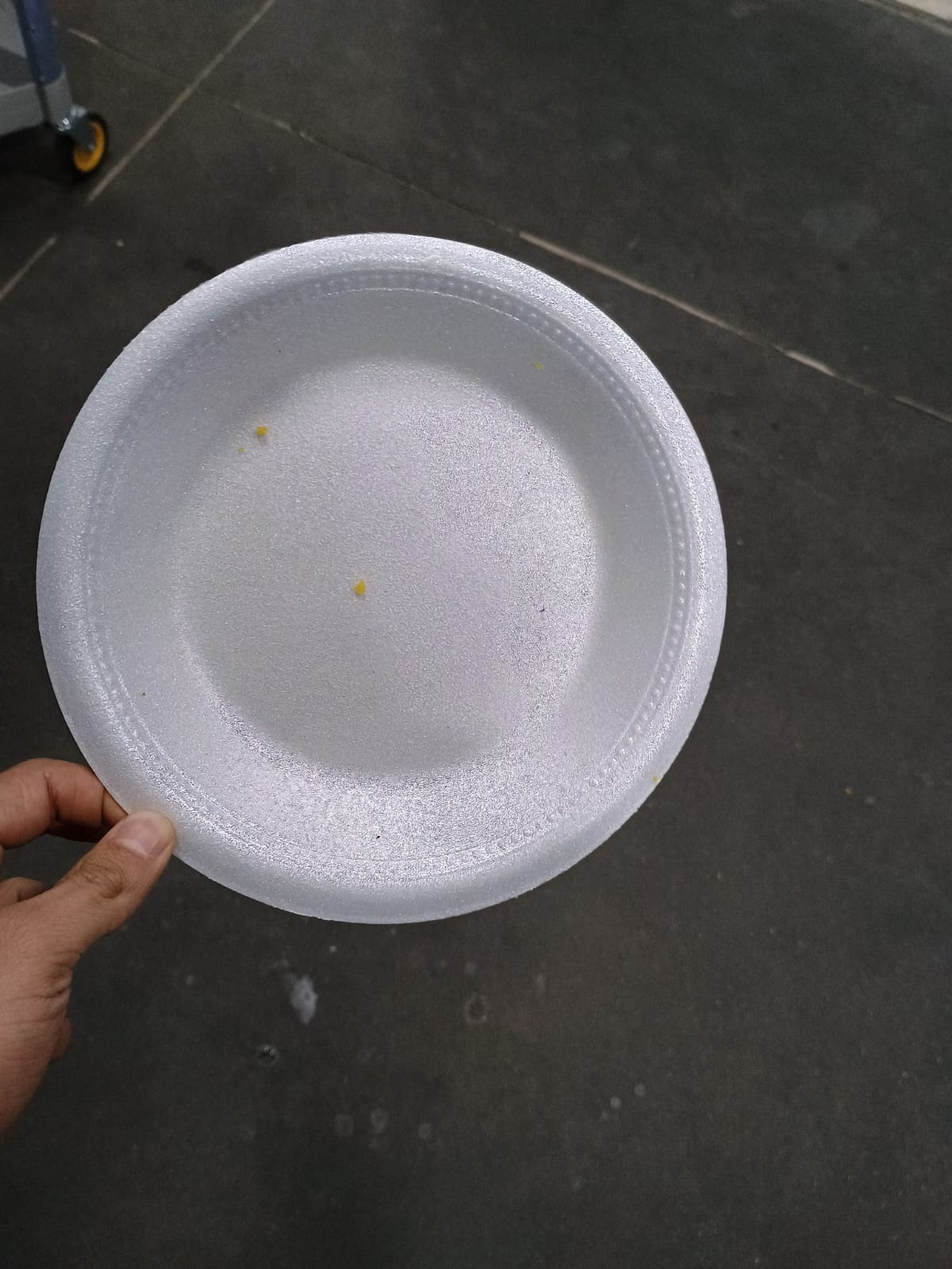Ordinario: (37, 232, 728, 929)
